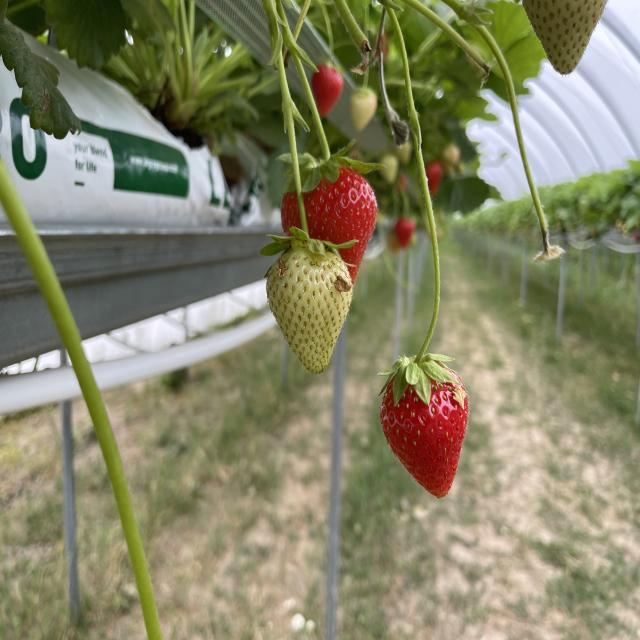stem: (260, 0, 329, 255), (380, 181, 457, 403), (383, 2, 426, 181), (432, 238, 439, 274)
strawberryNR: (267, 247, 352, 371), (522, 0, 606, 71)
strawberryR: (380, 384, 467, 495), (303, 167, 375, 260), (311, 64, 343, 115)
